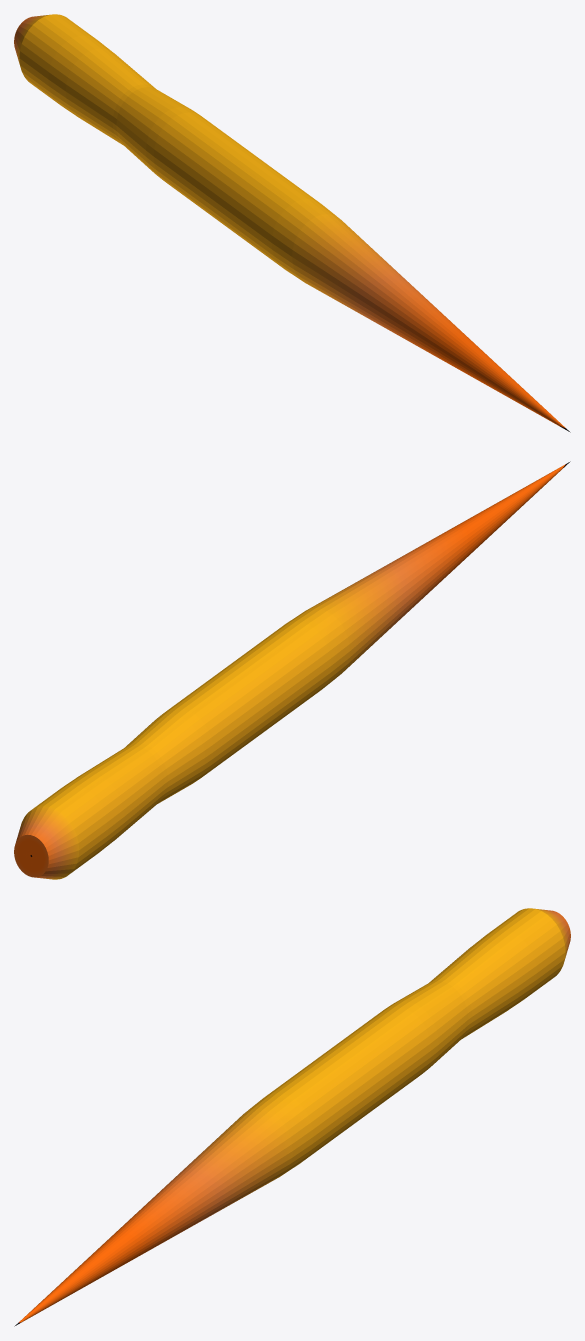
The model's file is missilefire.obj.
The picture shows the model from 3 angles, top to bottom: view 1: azimuth 30°, elevation 25°; view 2: azimuth 150°, elevation 25°; view 3: azimuth 330°, elevation 25°; orthographic projection.
Visible parts, largest first — view 1: Cone; view 2: Cone; view 3: Cone.
Boxes of the visible parts, x1=… form: Cone: x1=14, y1=14, x2=570, y2=432; Cone: x1=14, y1=461, x2=570, y2=879; Cone: x1=14, y1=908, x2=570, y2=1326.
Size of the model in its own units: 0.5005 by 0.5763 by 7.82.
1 material, 1 textured.
